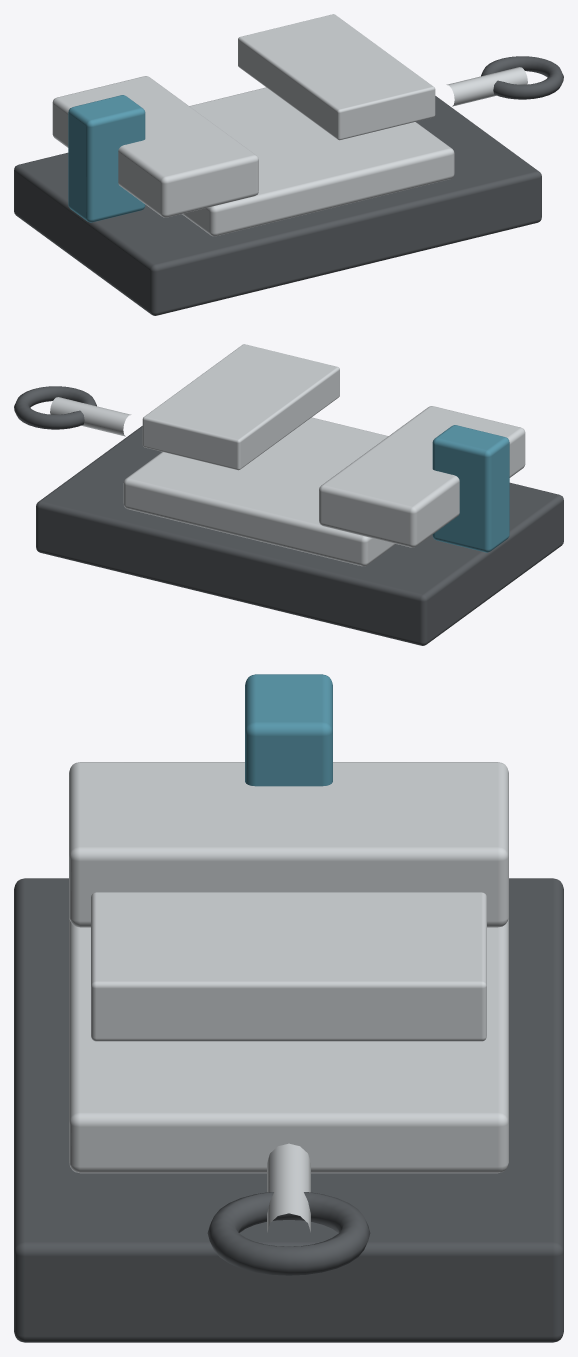
File: geotechnical-soil-testing-laboratory-direct-shear-tran-c77dc434__39054.glb
3 views of the same model, one above another, from view 1: azimuth 30°, elevation 25°; view 2: azimuth 150°, elevation 25°; view 3: azimuth 270°, elevation 25° (orthographic). The views are drawn at different scales.
Parts seen in each view (by area): view 1: direct-shear-translation-machine; view 2: direct-shear-translation-machine; view 3: direct-shear-translation-machine.
Boxes of the visible parts, <box> form: direct-shear-translation-machine: <box>14,14,563,315</box>; direct-shear-translation-machine: <box>14,344,563,645</box>; direct-shear-translation-machine: <box>14,674,563,1342</box>.
Size of the model in its own units: 0.984 by 0.3 by 0.5.
